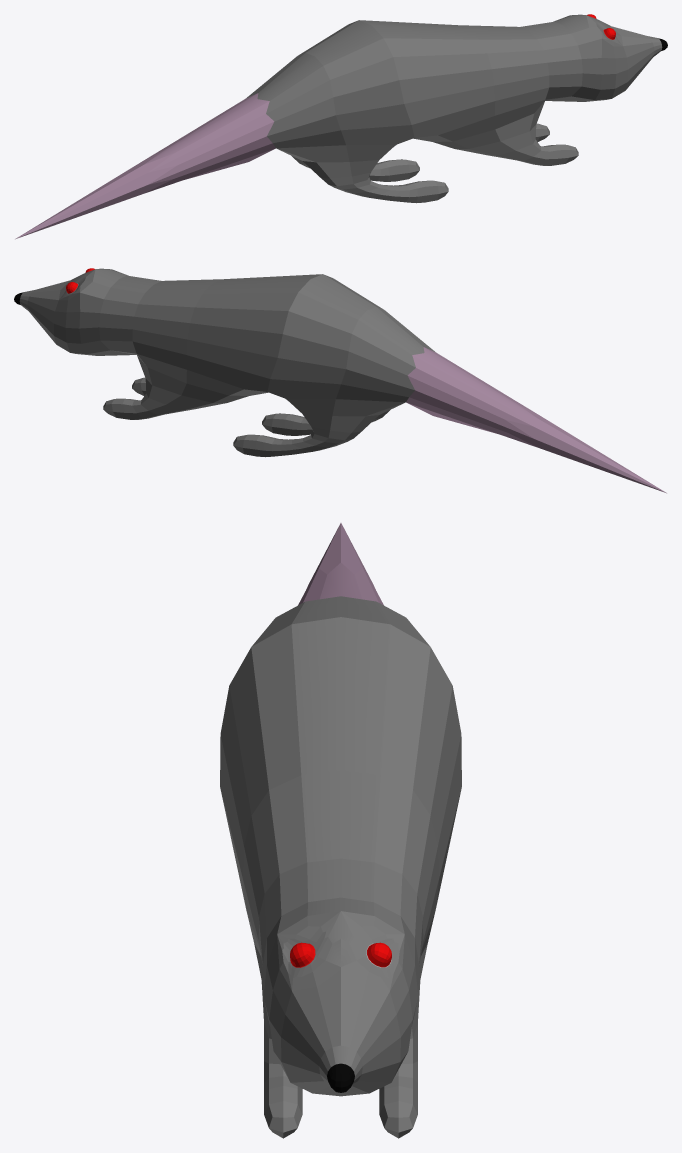
File: RatNoTexture.fbx
3 views of the same model, one above another, from view 1: azimuth 30°, elevation 25°; view 2: azimuth 150°, elevation 25°; view 3: azimuth 270°, elevation 25° (orthographic). The views are drawn at different scales.
Parts seen in each view (by area): view 1: Rat2; view 2: Rat2; view 3: Rat2.
Boxes of the visible parts, box(x1,y1,x2,y2) form: Rat2: box(15, 14, 667, 239); Rat2: box(14, 268, 666, 493); Rat2: box(220, 523, 461, 1138).
Bounding box in the file's own units: 23.41 × 6.02 × 3.75.
